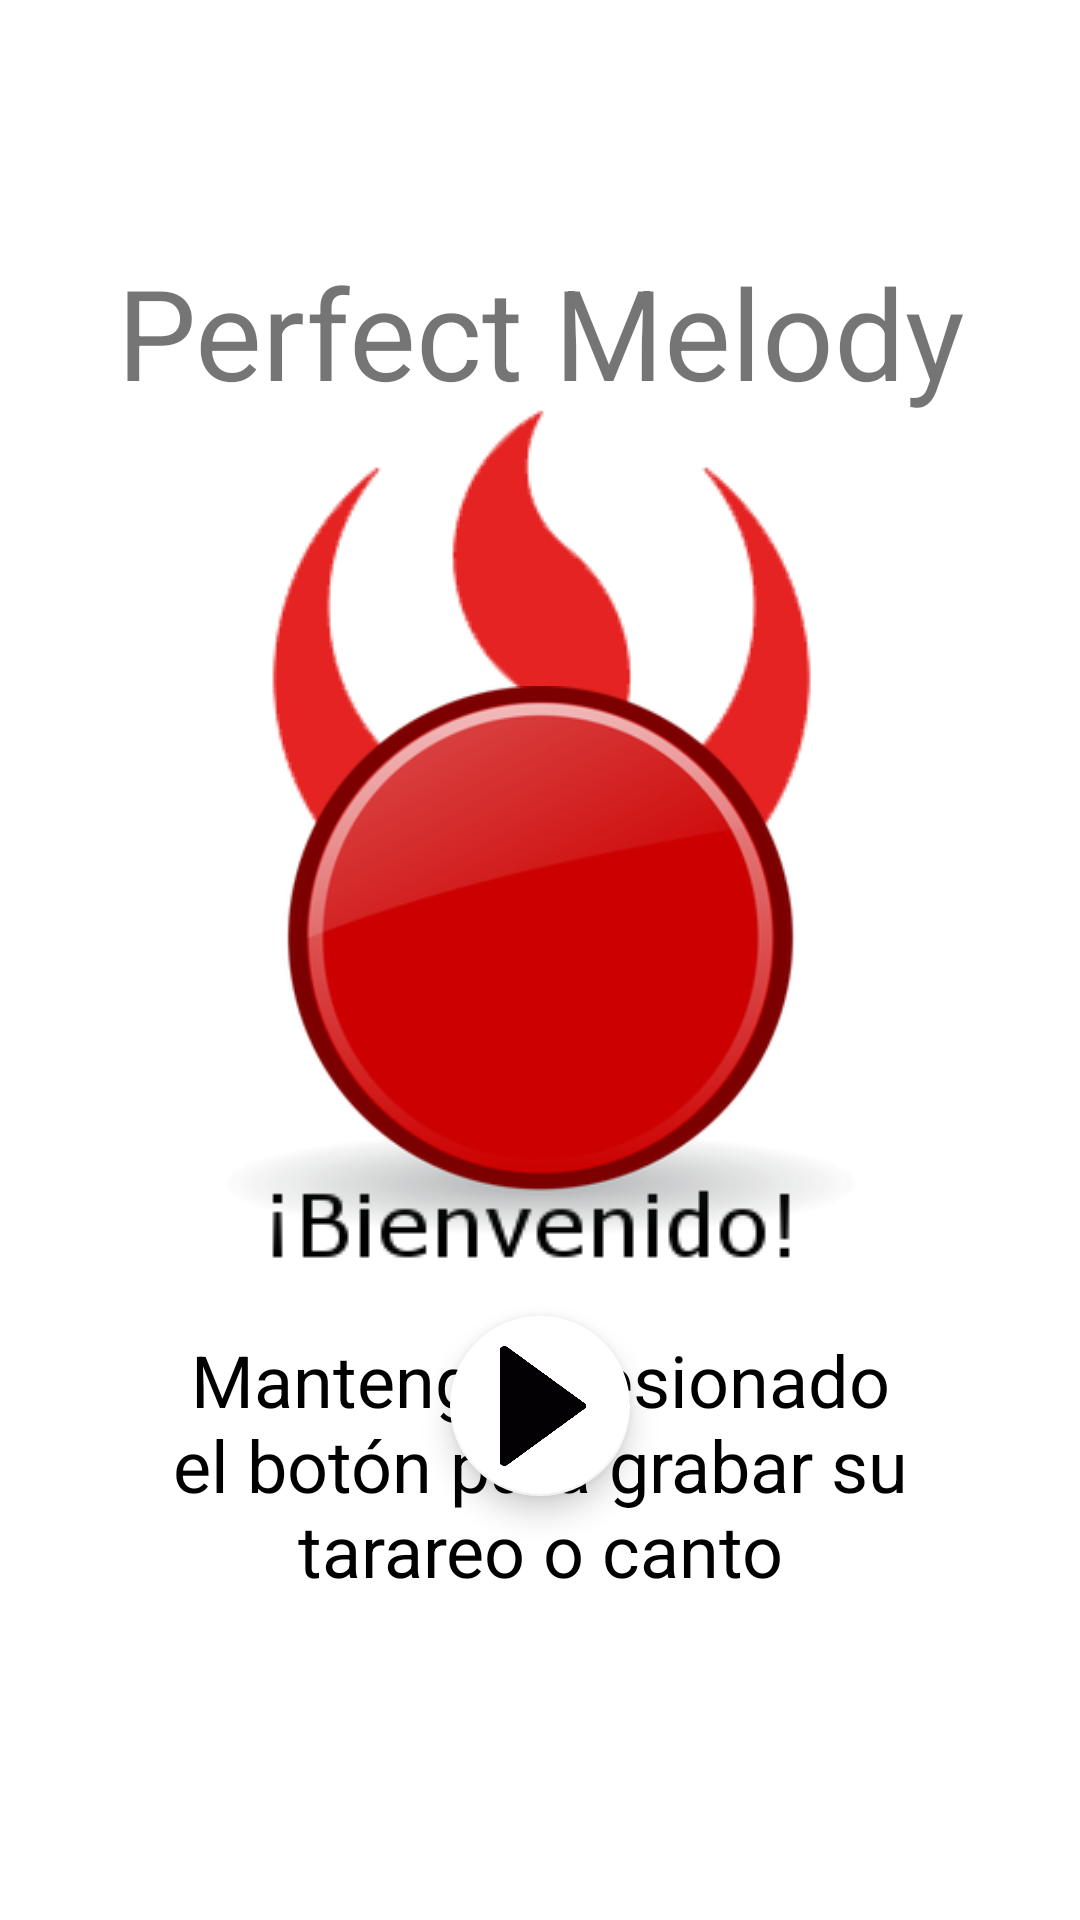

Icons on this 1080px x 1920px Android screen, each with the point to tap as [x,y]:
btnplayblack: [565,1406]
